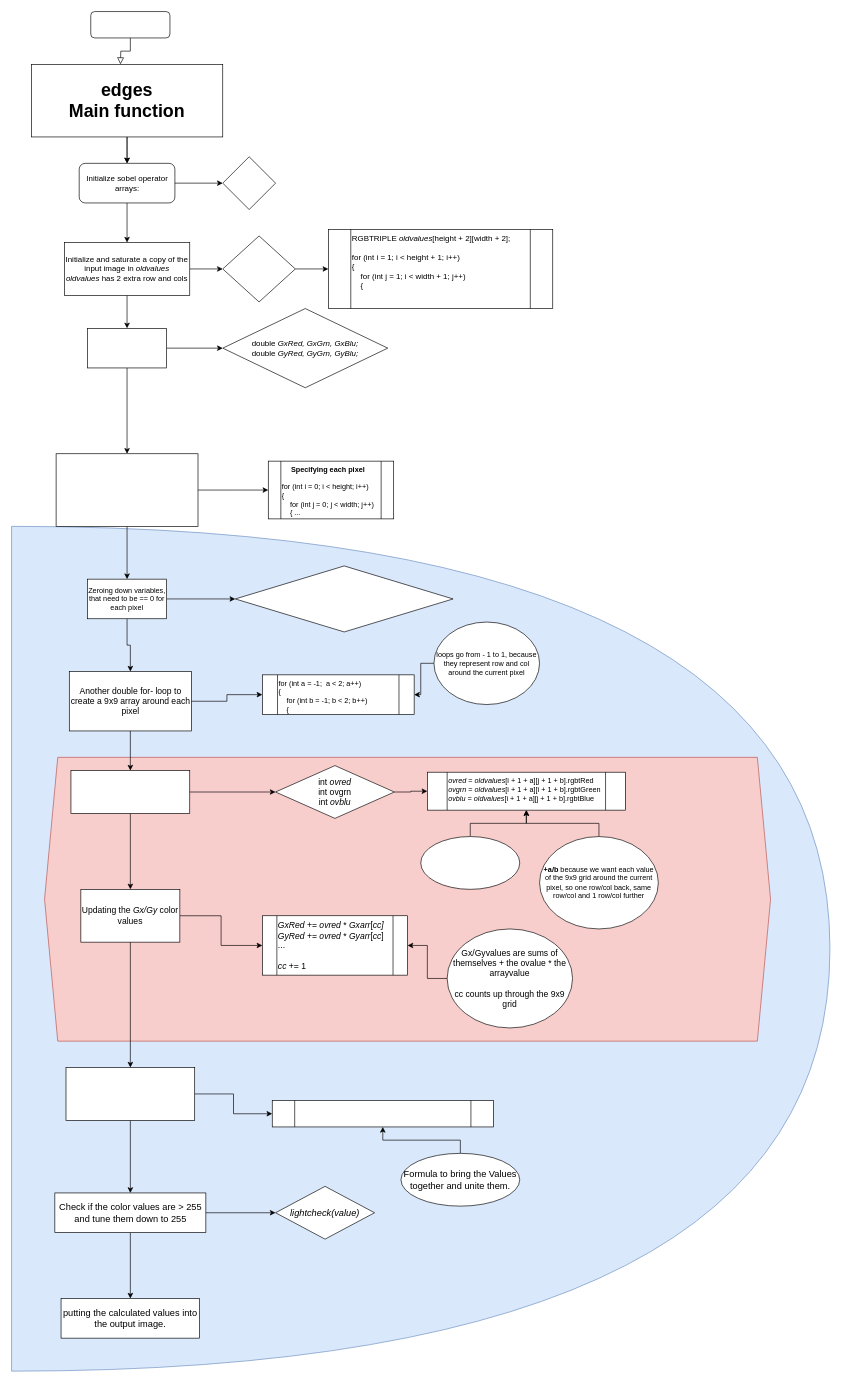
This 842x1383 diagram has some shape labels left out. Here are the shapes that lost their labels. From the top down, the box of each, then its label:
(90, 11, 170, 38): Initiallize lightcheck
(222, 156, 276, 210): int Gxarr int Gyarr
(222, 235, 295, 302): RGBTRIPLE oldvalues
(87, 328, 167, 368): Initialize Gx and Gy Variables for each color.
(55, 453, 198, 526): double for-loop to calculate each pixel in the grid
(235, 565, 453, 632): GxRed = GxGrn = GxBlu = GyRed = GyGrn = GyBlu = 0 int cc = 0
(70, 770, 190, 813): Getting the old value for the current 9x9 gridpixel
(420, 836, 520, 889): >i/j + 1< because the oldvalues grid has one more row and col on each end
(65, 1067, 195, 1120): Putting the Gx and Gy values together to get a single value for each color.
(272, 1100, 493, 1127): GRed = round(sqrt(pow(GxRed, 2) + pow(GyRed, 2))) ...
